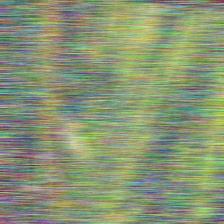Leaf_Blast: (33, 0, 75, 209)
